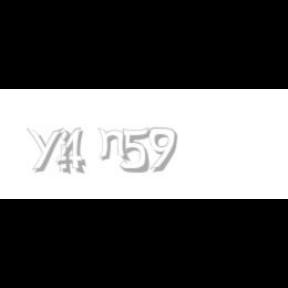4: (56, 128, 86, 174)
5: (120, 128, 150, 174)
9: (148, 128, 178, 172)
i: (58, 128, 74, 176)
n: (97, 128, 131, 162)
y: (27, 128, 67, 172)
